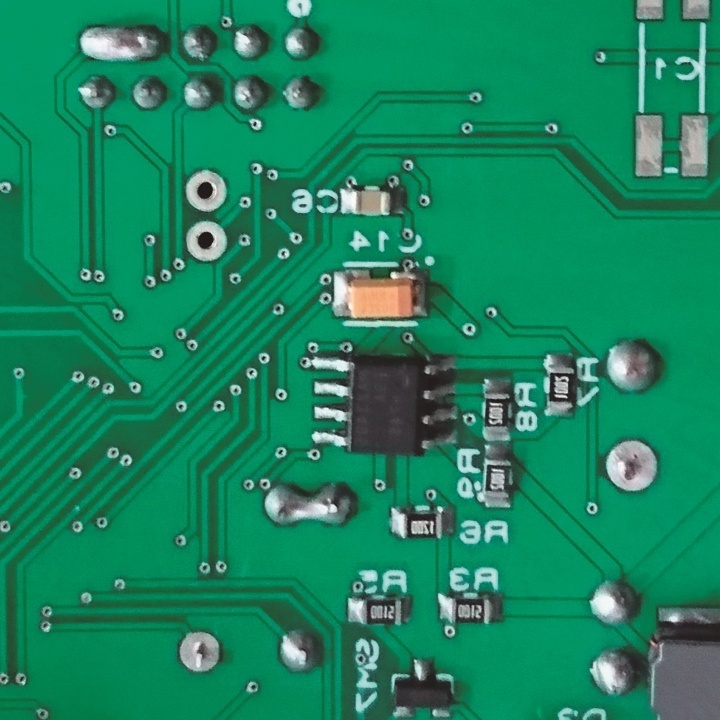F: (601, 439, 661, 495), (173, 628, 225, 677), (184, 219, 229, 263), (184, 169, 230, 210)
P: (262, 481, 356, 529), (75, 21, 167, 67)
